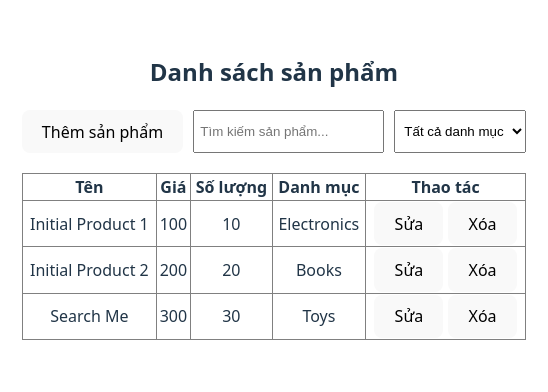
Test: Product E2E Automation Testing › should allow a user to create a new product
Click the button with class "add-product-btn" at (103, 132), box [22,110,184,153]
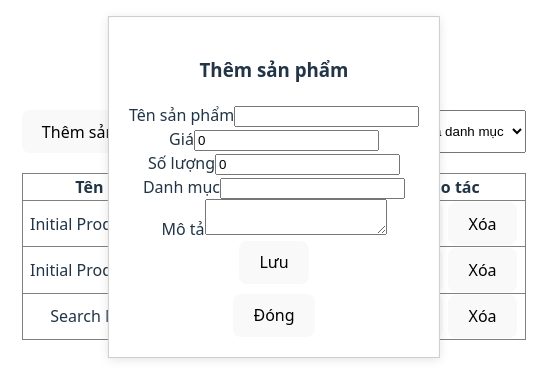
Type "New Awesome Laptop" into the field with id "name" at (327, 117), box [234,106,419,127]
Replace the text in the number field labelled "Giá" with "2500" at (287, 141), box [194,130,379,151]
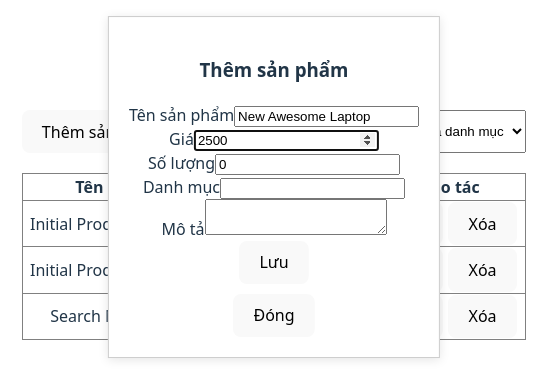
Replace the text in the number field labelled "Số lượng" with "5" at (308, 165), box [215,154,400,175]
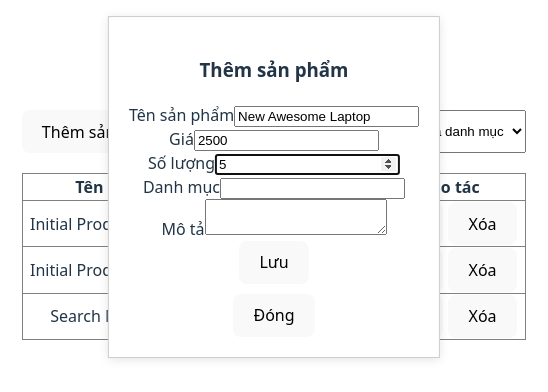
Type "Electronics" into the field with id "category" at (313, 189), box [220,178,405,199]
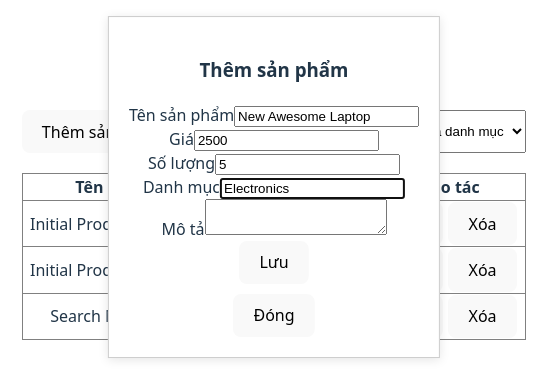
Type "A brand new laptop for testing" into the text box with id "description" at (296, 217), box [205,199,387,235]
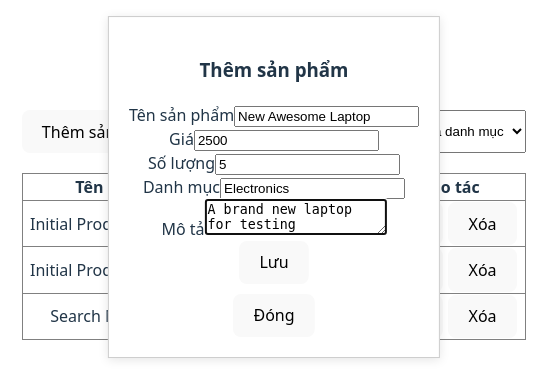
Click the submit button at (274, 263), box [239,241,308,284]
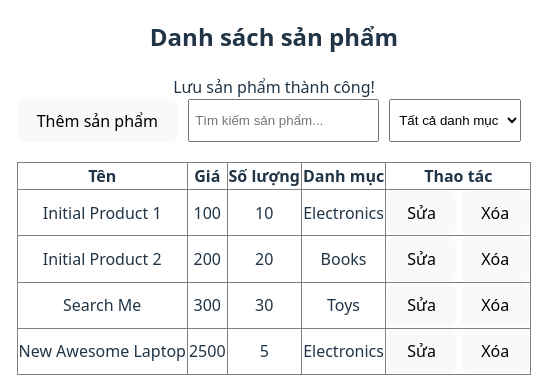
Now the text with class "success-message" reads "Lưu sản phẩm thành công!", box [173,76,375,98]
Now the cell "New Awesome Laptop" is shown, box [17,328,187,374]
